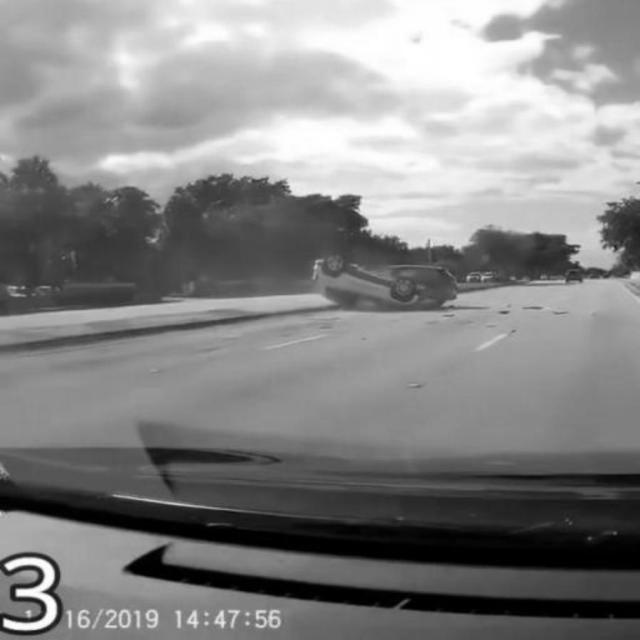accident: (313, 252, 459, 314)
